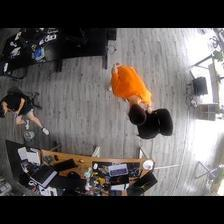normal: (107, 58, 153, 125), (1, 91, 49, 140)
